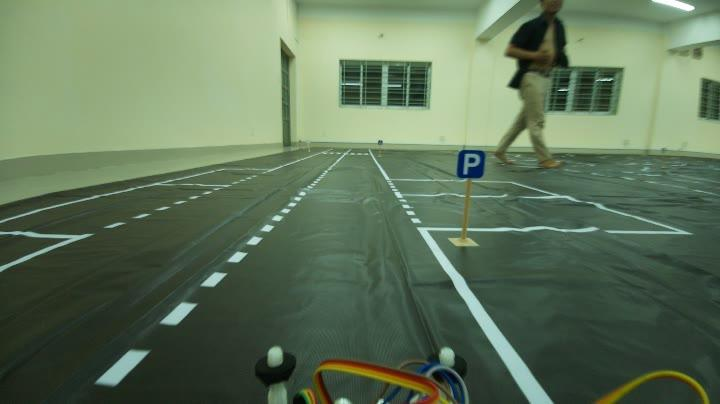parking: (450, 148, 488, 185)
